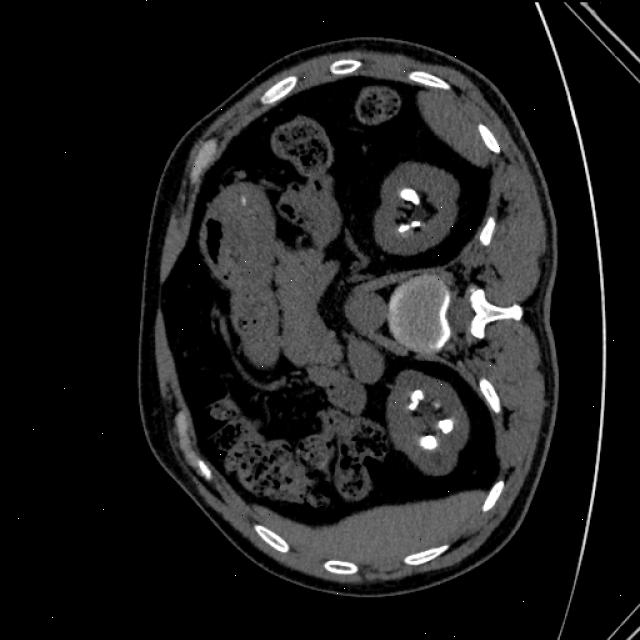kidneystone: (418, 415, 463, 450), (400, 188, 422, 205), (399, 221, 421, 231), (409, 391, 418, 409)
